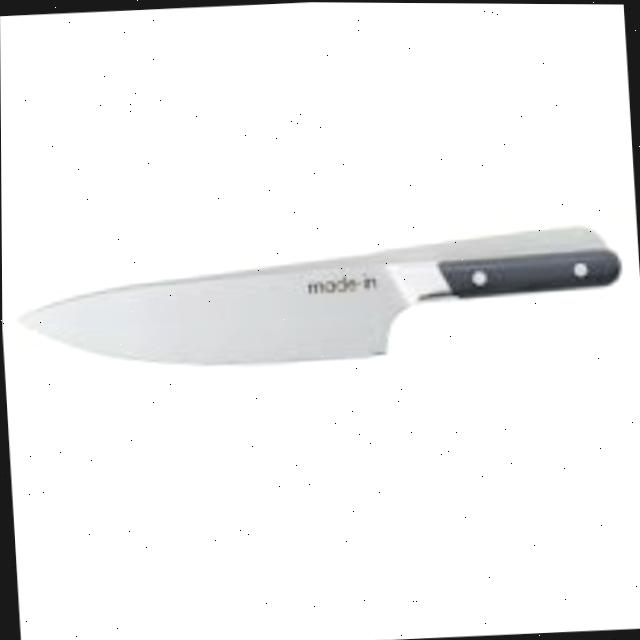knife: (12, 216, 626, 378)
